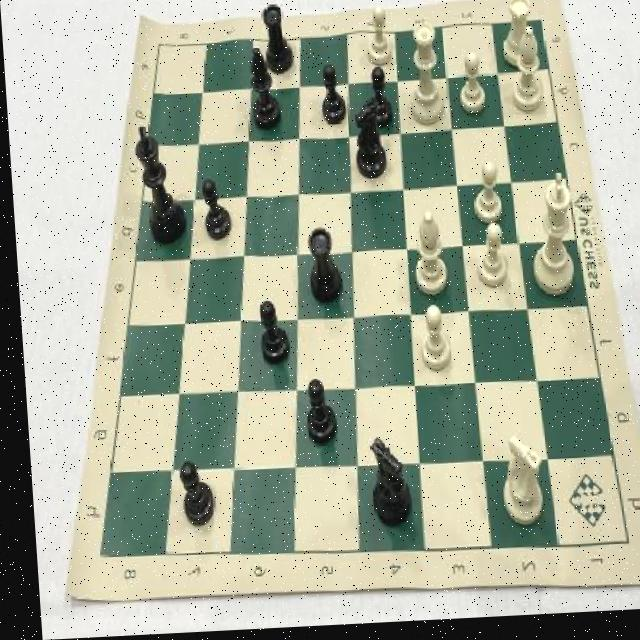bishop: (244, 43, 282, 138)
black-bishop: (126, 121, 186, 250)
black-king: (358, 426, 412, 536), (342, 100, 394, 188)
black-knight: (168, 454, 211, 534), (293, 375, 336, 452), (249, 295, 289, 375), (361, 66, 399, 135), (313, 63, 349, 131), (196, 174, 230, 246)
black-queen: (297, 222, 343, 311), (257, 0, 300, 81)
black-rook: (403, 207, 454, 306), (503, 24, 549, 123)
white-bishop: (519, 168, 581, 311)
white-king: (486, 426, 548, 543)
white-knight: (465, 220, 512, 300), (449, 47, 491, 126), (465, 160, 506, 239), (410, 304, 450, 384), (360, 4, 394, 78)
white-pawn: (398, 17, 450, 137)
white-queen: (493, 0, 538, 78)
